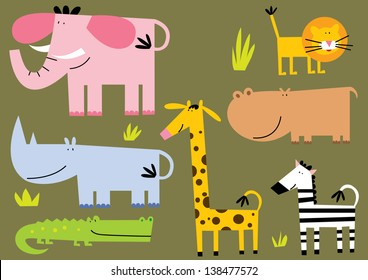animal: (164, 101, 265, 254), (8, 116, 173, 209), (267, 156, 365, 256), (226, 80, 366, 146), (10, 213, 158, 257), (260, 6, 355, 74)
elephant: (10, 9, 167, 114)
